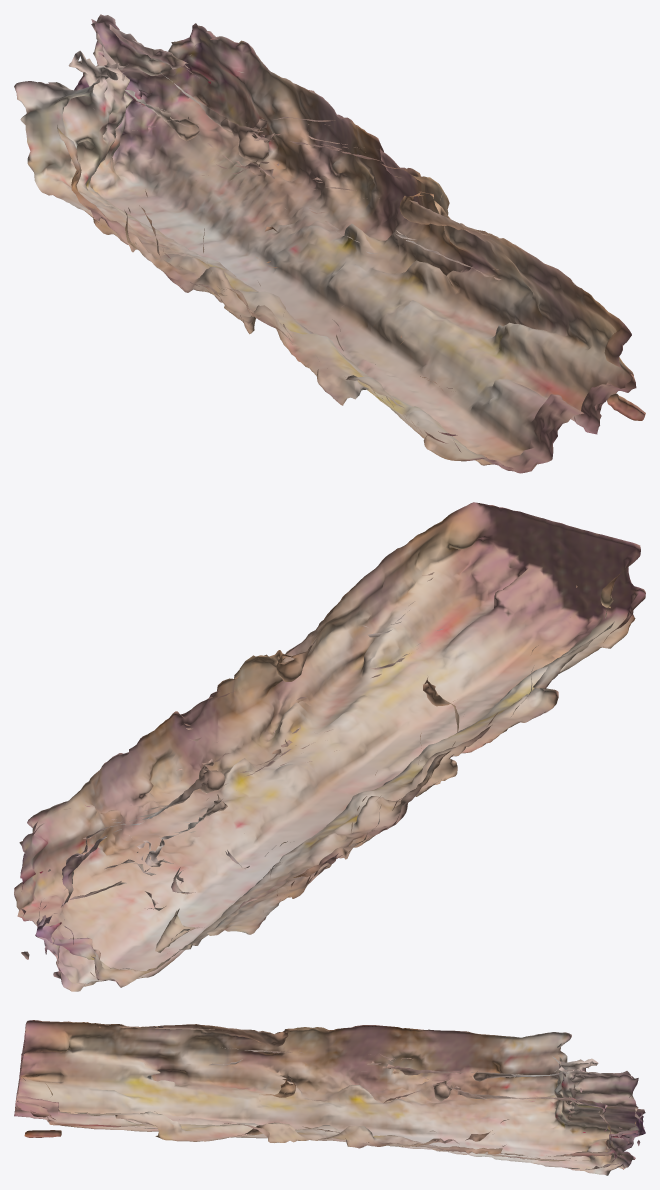
File: fantasy-shimmering-spheres-collider.glb
The picture shows the model from 3 angles, top to bottom: view 1: azimuth 30°, elevation 25°; view 2: azimuth 150°, elevation 25°; view 3: azimuth 270°, elevation 25°; orthographic projection. The views are drawn at different scales.
Parts seen in each view (by area): view 1: world; view 2: world; view 3: world.
Part boxes in pixels (x1=…): world: x1=14, y1=14, x2=645, y2=473; world: x1=14, y1=502, x2=645, y2=991; world: x1=14, y1=1020, x2=645, y2=1175.
Size of the model in its own units: 5.45 by 3.83 by 19.36.
